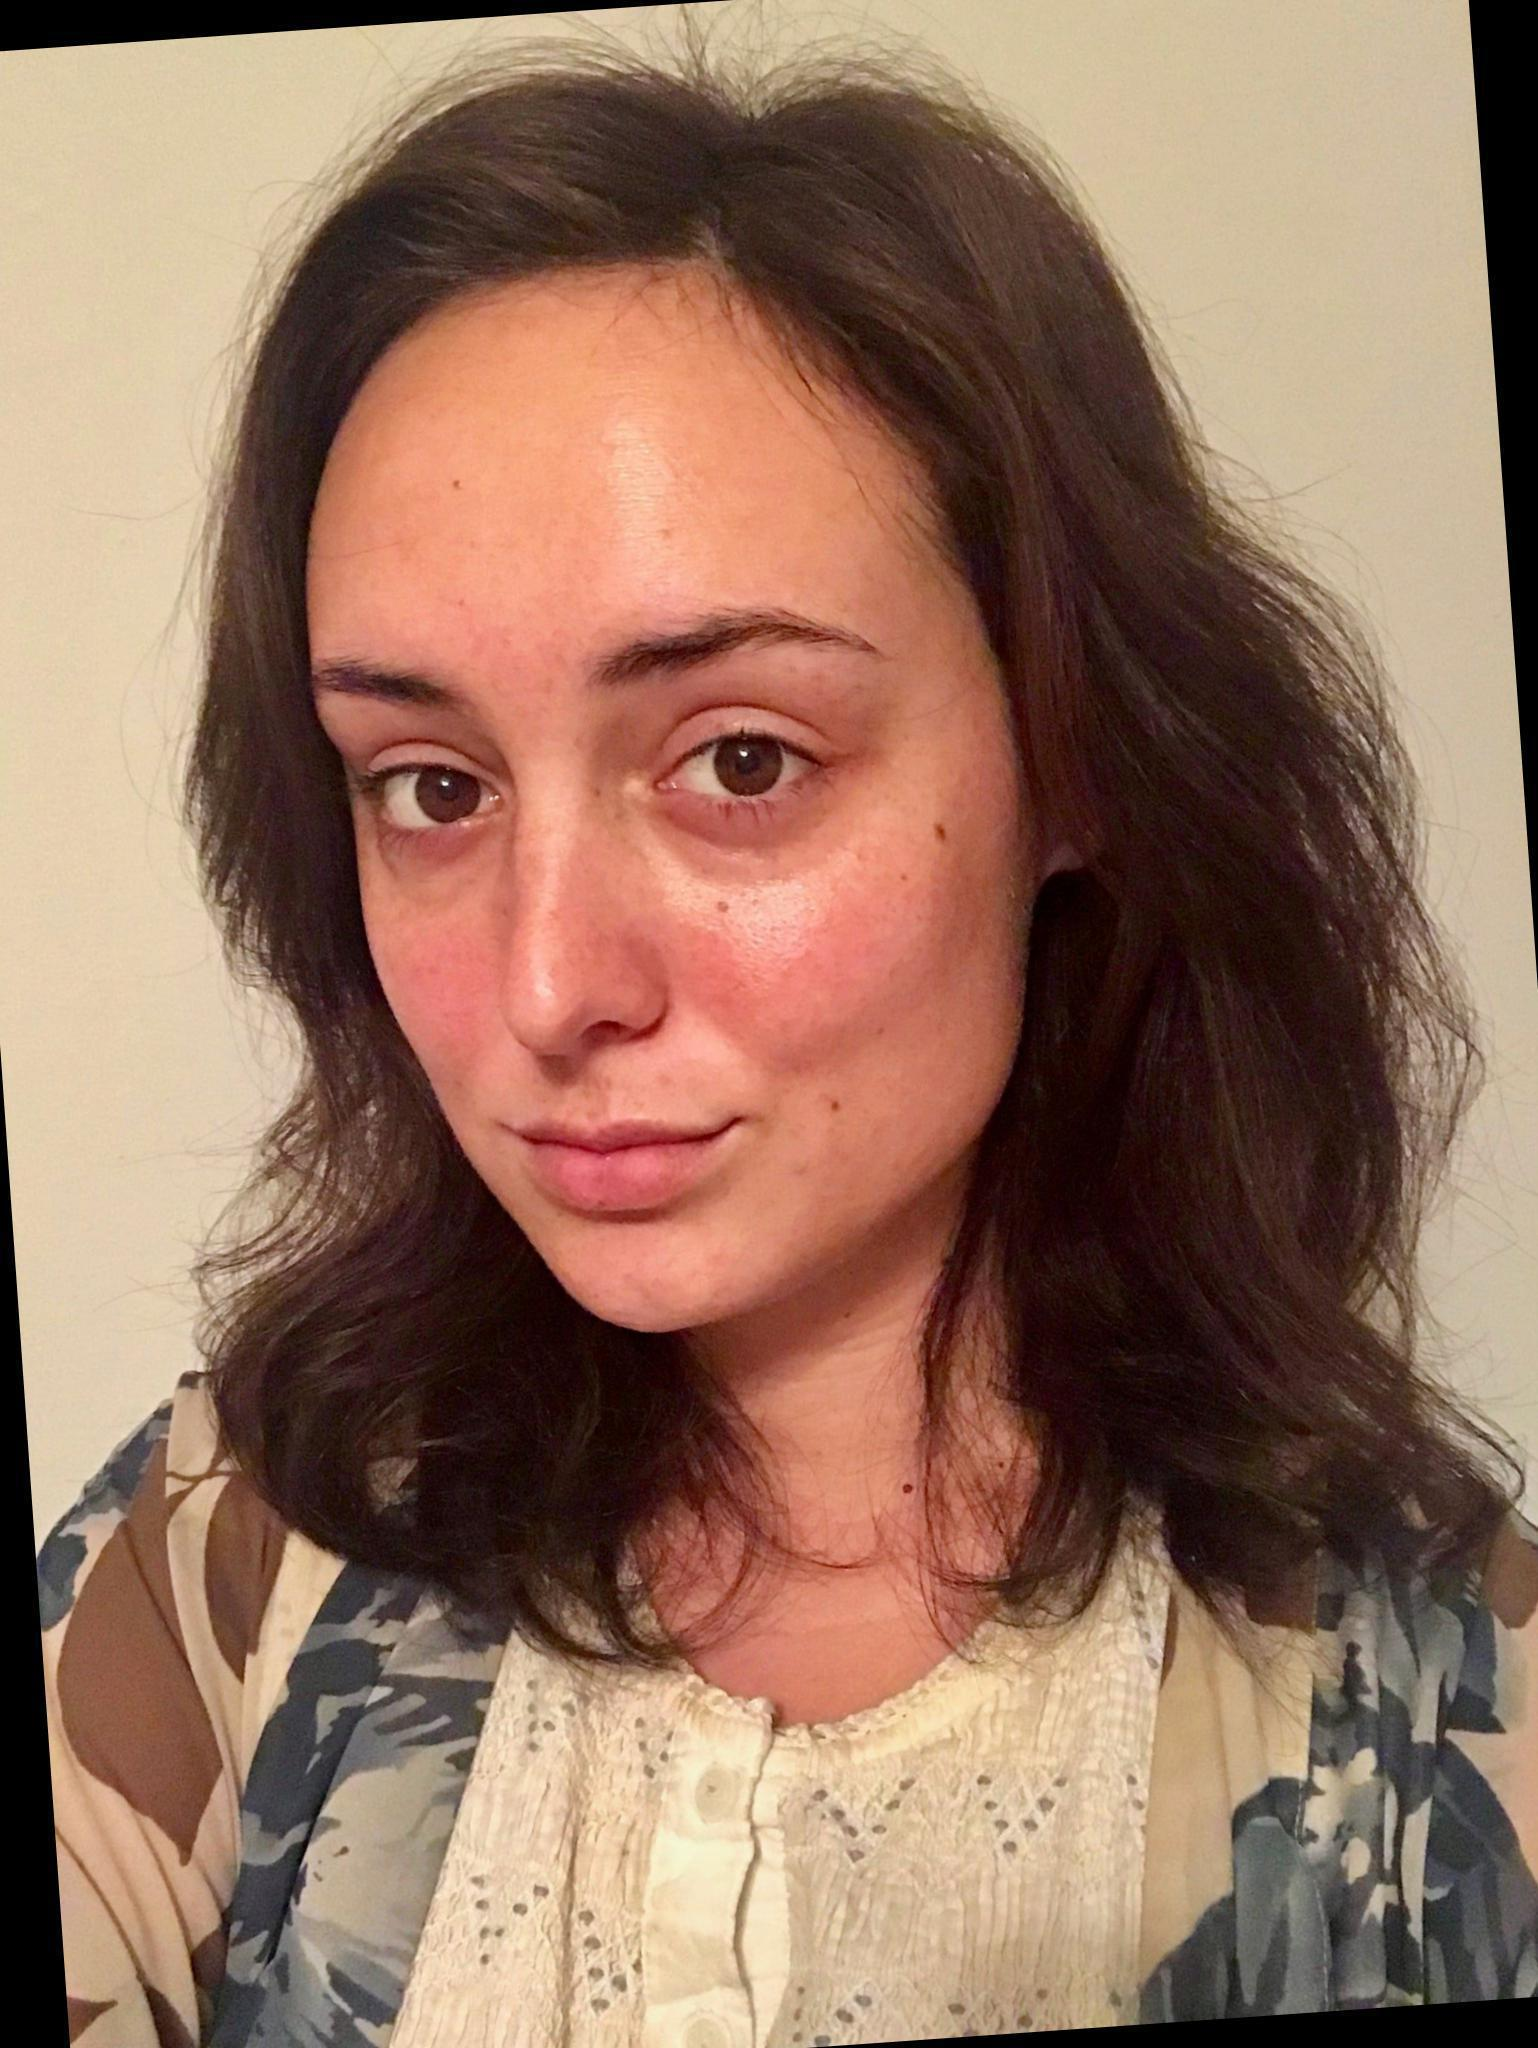Drunk: (342, 386, 1002, 1310)
